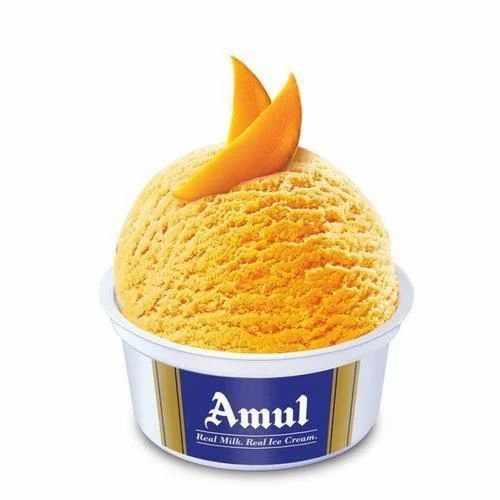Amul: (192, 391, 319, 435)
